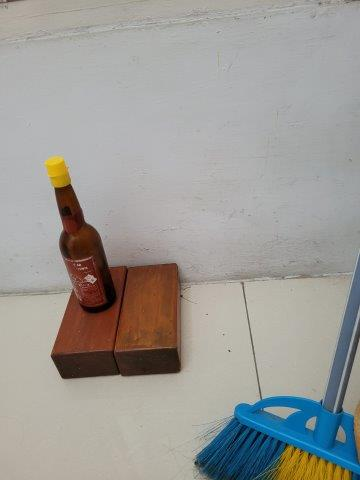botolkaca: (45, 158, 119, 312)
